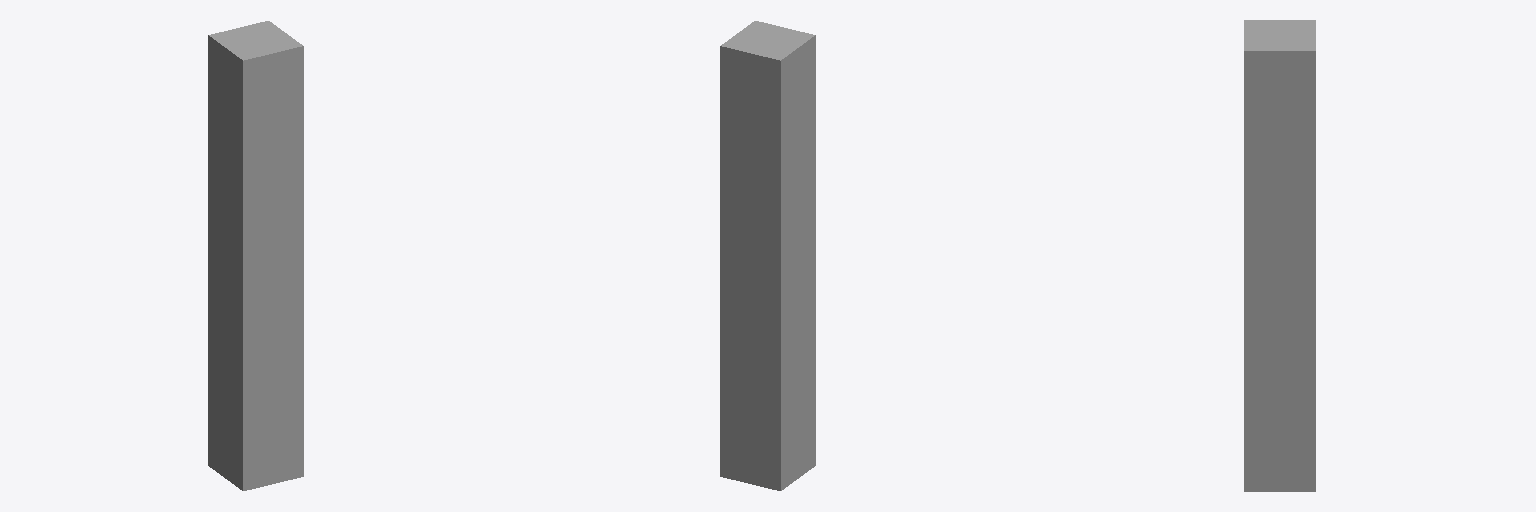
robot.urdf — youbot:
<?xml version="1.0" ?>
<!-- =================================================================================== -->
<!-- |    This document was autogenerated by xacro from test.xacro                     | -->
<!-- |    EDITING THIS FILE BY HAND IS NOT RECOMMENDED                                 | -->
<!-- =================================================================================== -->
<robot name="youbot">
  <link name="youbot_world"/>
  <joint name="youbot_world" type="fixed">
    <parent link="youbot_world"/>
    <child link="base_link"/>
  </joint>
  <link name="base_link">
    <visual>
      <geometry>
        <box size="0.22 0.22 1.5"/>
      </geometry>
      <origin rpy="0 0 0" xyz="0 0 0.75"/>
      <material name="LightGrey">
        <color rgba="0.7 0.7 0.7 1.0"/>
      </material>
    </visual>
    <collision>
      <geometry>
        <box size="0.22 0.22 1.5"/>
        <mesh filename="package://urdf_tutorial/meshes/collision/d435i_holder_v2.stl"/>
      </geometry>
    </collision>
  </link>
</robot>

--- What the picture shows (computed from the rendered views, not written in the file) ---
3 views of the same robot in one strip: view 1: azimuth 30°, elevation 25°; view 2: azimuth 150°, elevation 25°; view 3: azimuth 270°, elevation 25° (orthographic).
Robot: youbot — 2 links, 1 joints (1 fixed); root link youbot_world; default pose: all joints at 0.
Links seen in each view (by area): view 1: base_link; view 2: base_link; view 3: base_link.
Link boxes in pixels (left/top/right/bottom): base_link: left=208, top=21, right=303, bottom=490; base_link: left=720, top=21, right=815, bottom=490; base_link: left=1244, top=20, right=1315, bottom=491.
Size in the robot's own frame: 0.22 by 0.22 by 1.5 metres.
Geometry: primitives only (box / cylinder / sphere), no mesh files.